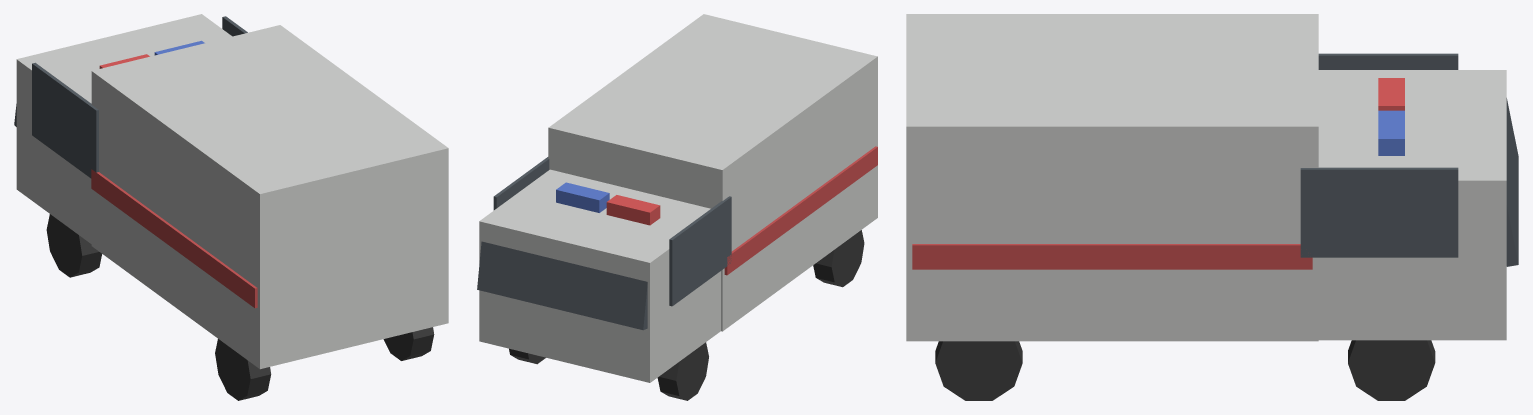
The model's file is ambulance.glb.
3 views of the same model, side by side, from view 1: azimuth 30°, elevation 25°; view 2: azimuth 150°, elevation 25°; view 3: azimuth 270°, elevation 25° (orthographic). The views are drawn at different scales.
Parts seen in each view (by area): view 1: ambulance; view 2: ambulance; view 3: ambulance.
Boxes of the visible parts, <box> form: ambulance: <box>14,14,448,400</box>; ambulance: <box>477,14,877,400</box>; ambulance: <box>906,14,1518,400</box>.
Size of the model in its own units: 2.26 by 2.51 by 5.05.
